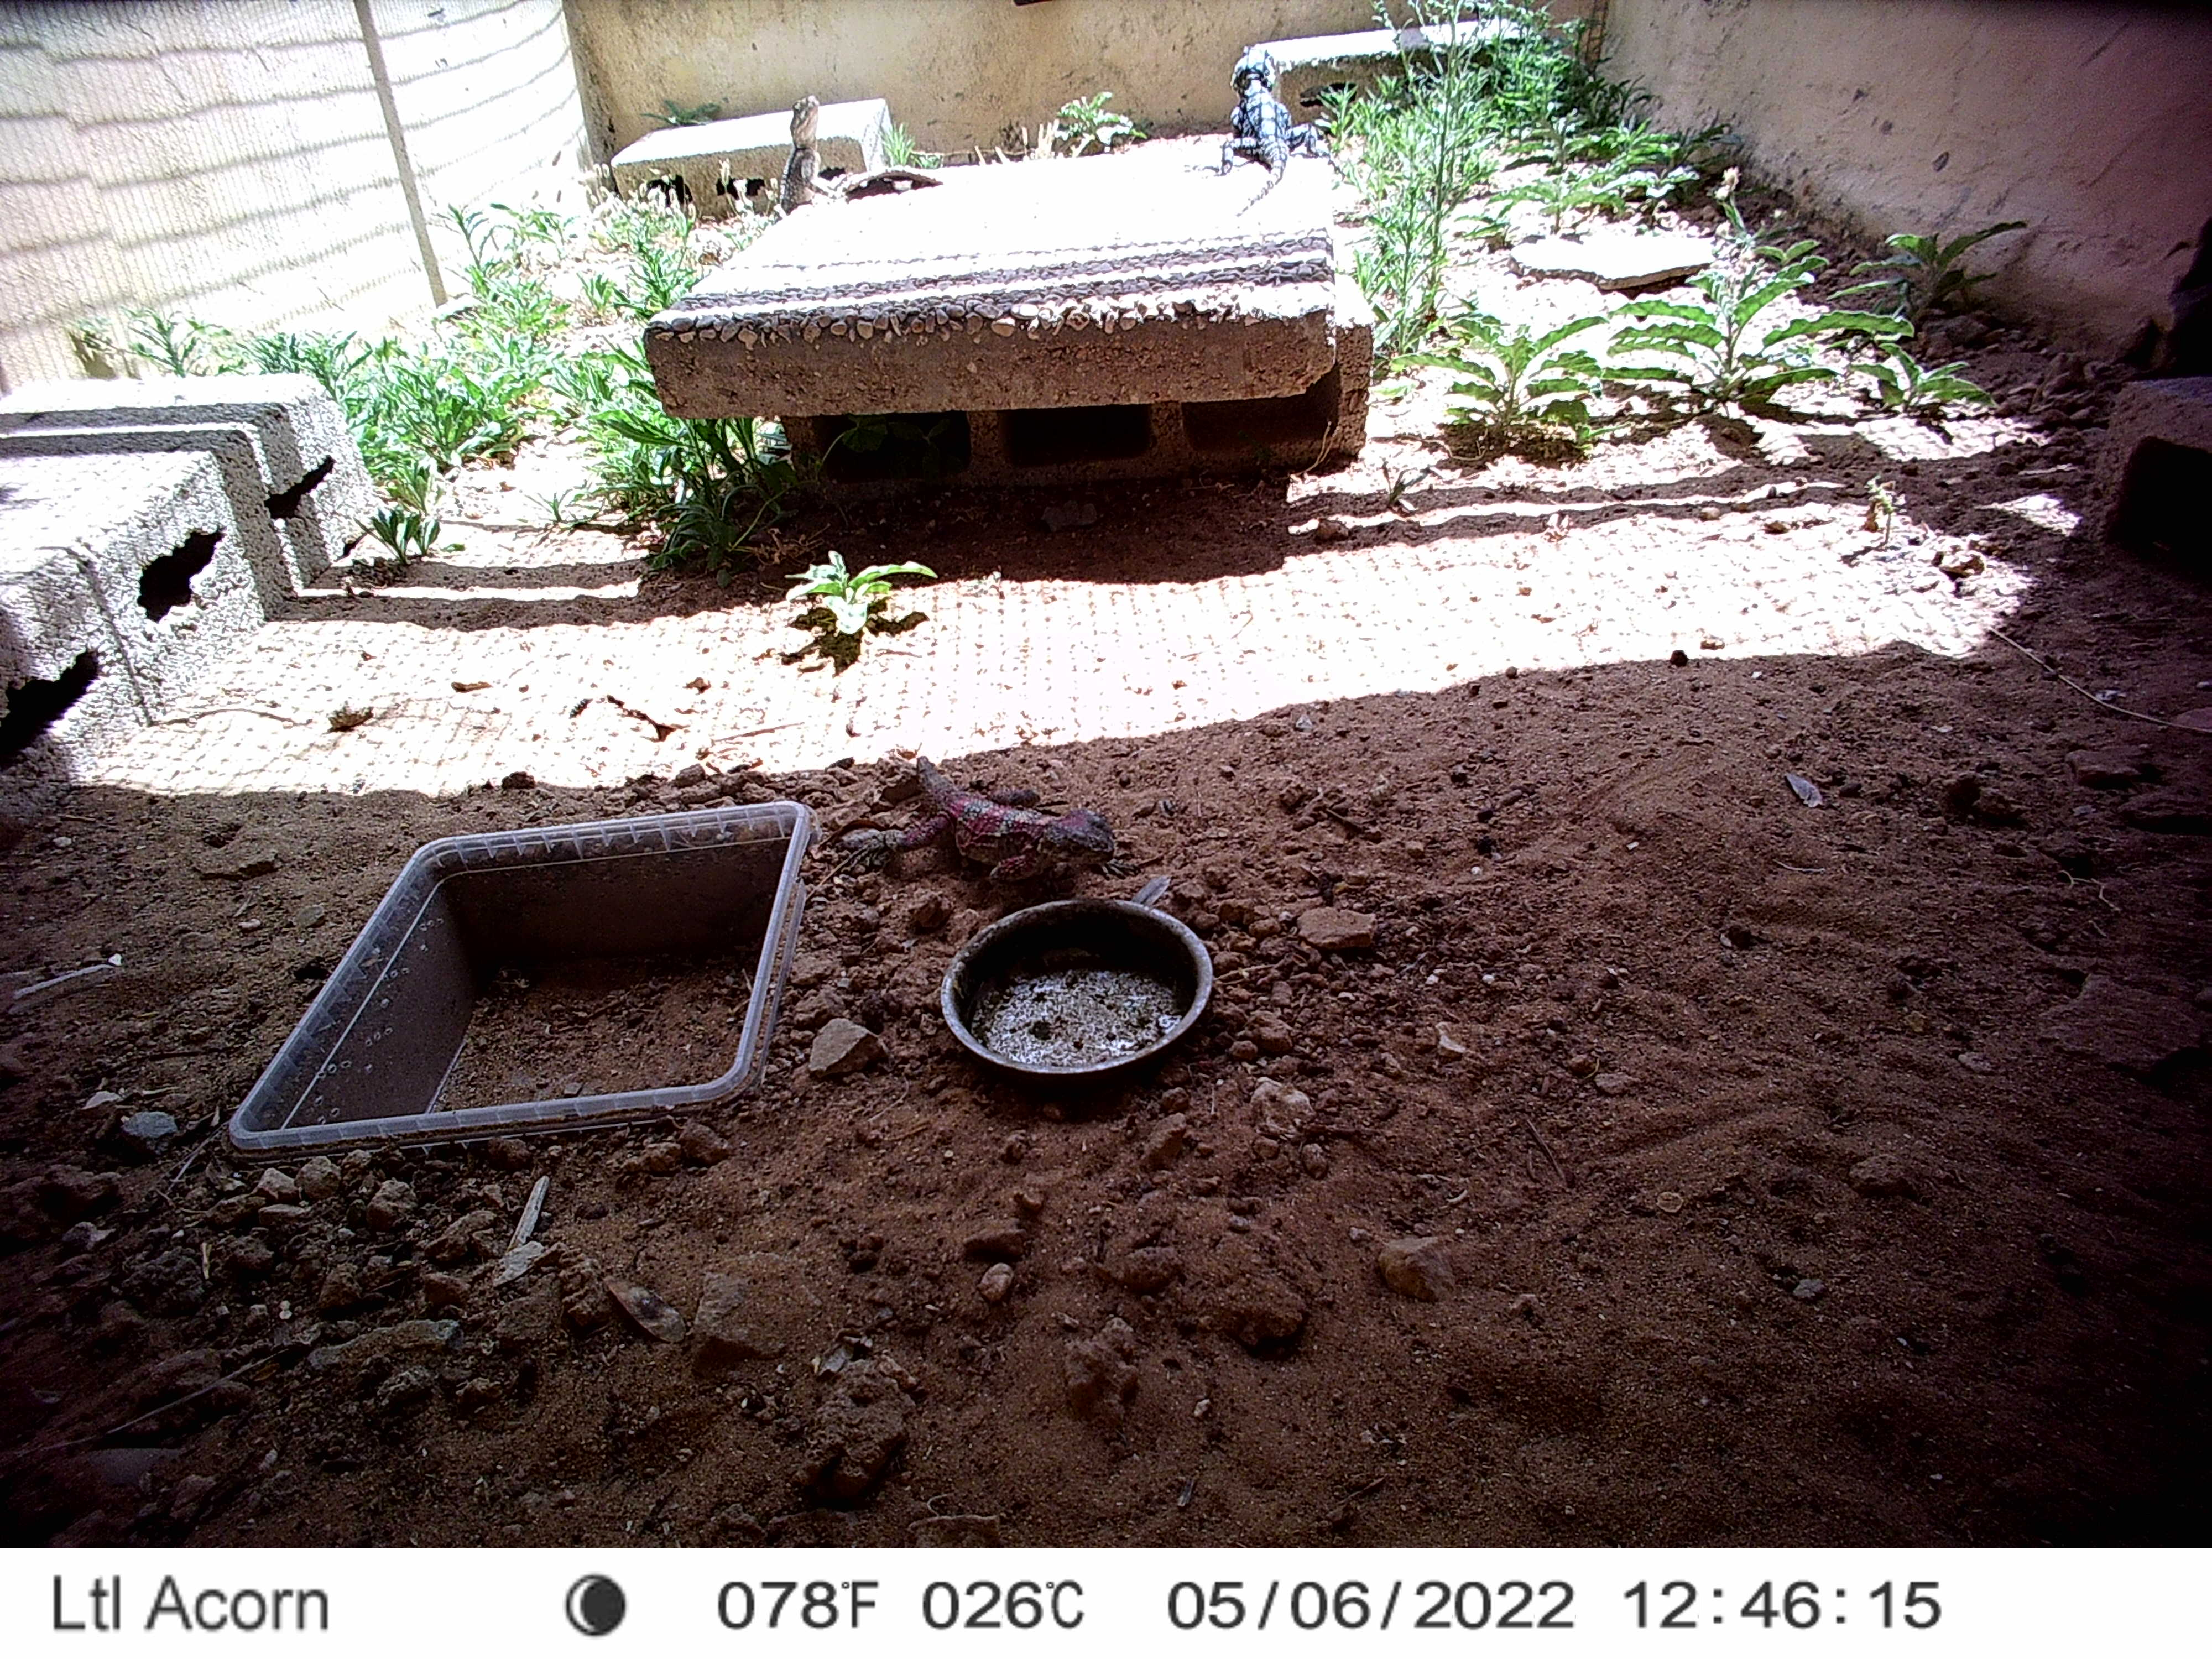lizard: (829, 753, 1127, 901), (1204, 49, 1343, 216), (768, 92, 850, 211)
